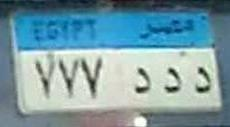7: (81, 56, 105, 100), (34, 57, 56, 100), (59, 55, 79, 98)
daal: (129, 65, 155, 99), (159, 66, 183, 96), (193, 64, 213, 95)
